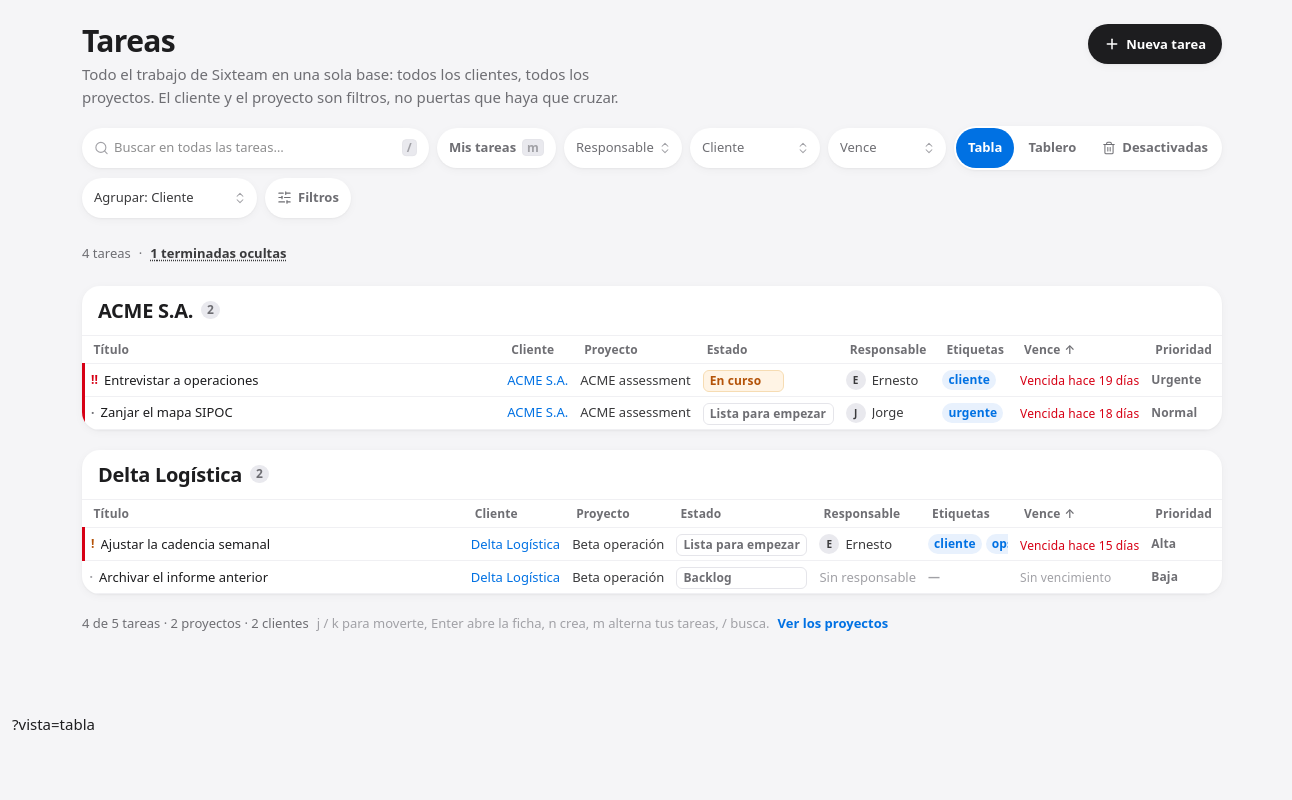
Test: TareasView (render) › «Mis tareas» es un filtro con botón y atajo, no otra pantalla
The width and height of the screenshot is (1292, 800).
Expected: the row with test id "tarea-fila-t-acme-hoy" is shown, [84,396,1222,429]
Click the button with test id "tareas-mias" at (496, 148), box [437,128,556,168]
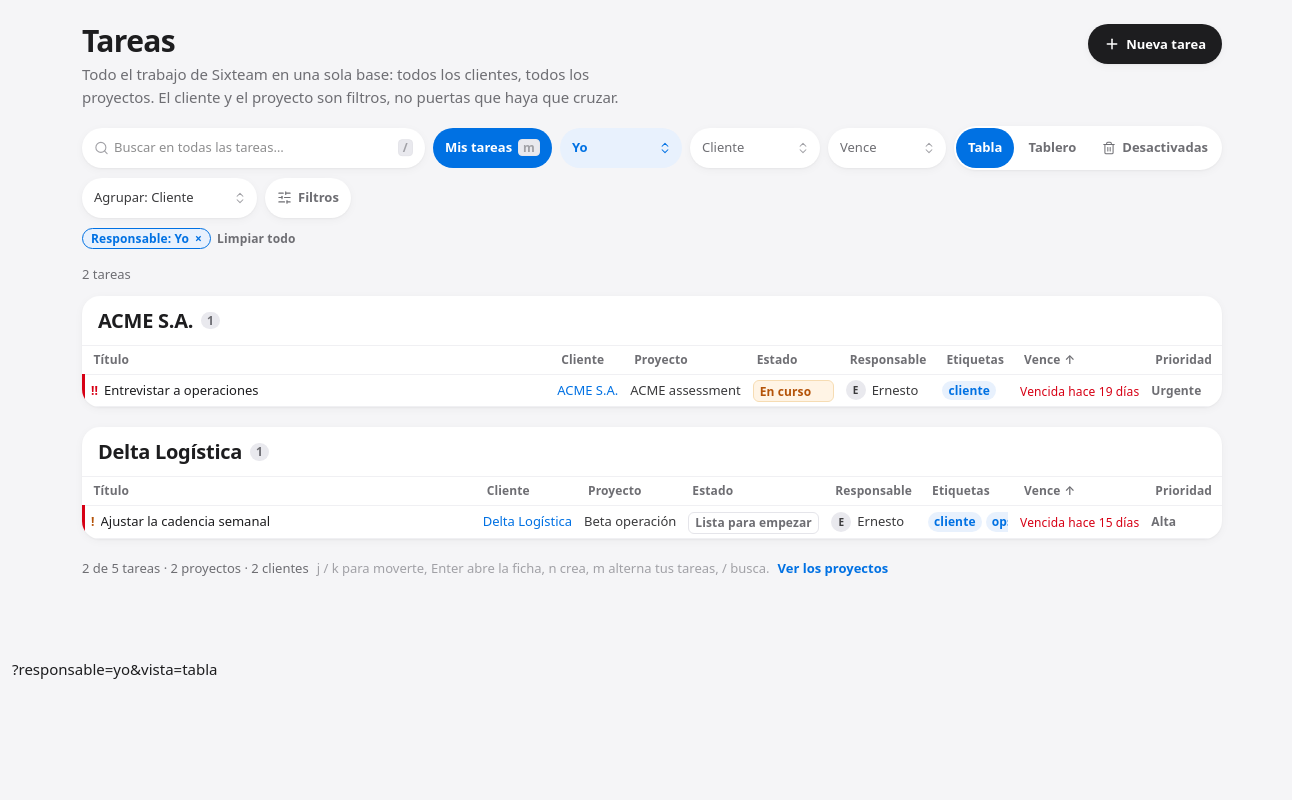
Expected: the row with test id "tarea-fila-t-acme-vencida" is shown, [84,374,1222,407]
Now the row with test id "tarea-fila-t-acme-hoy" is gone
Note: `m` lo quita: el mismo filtro, desde el teclado.
Press m
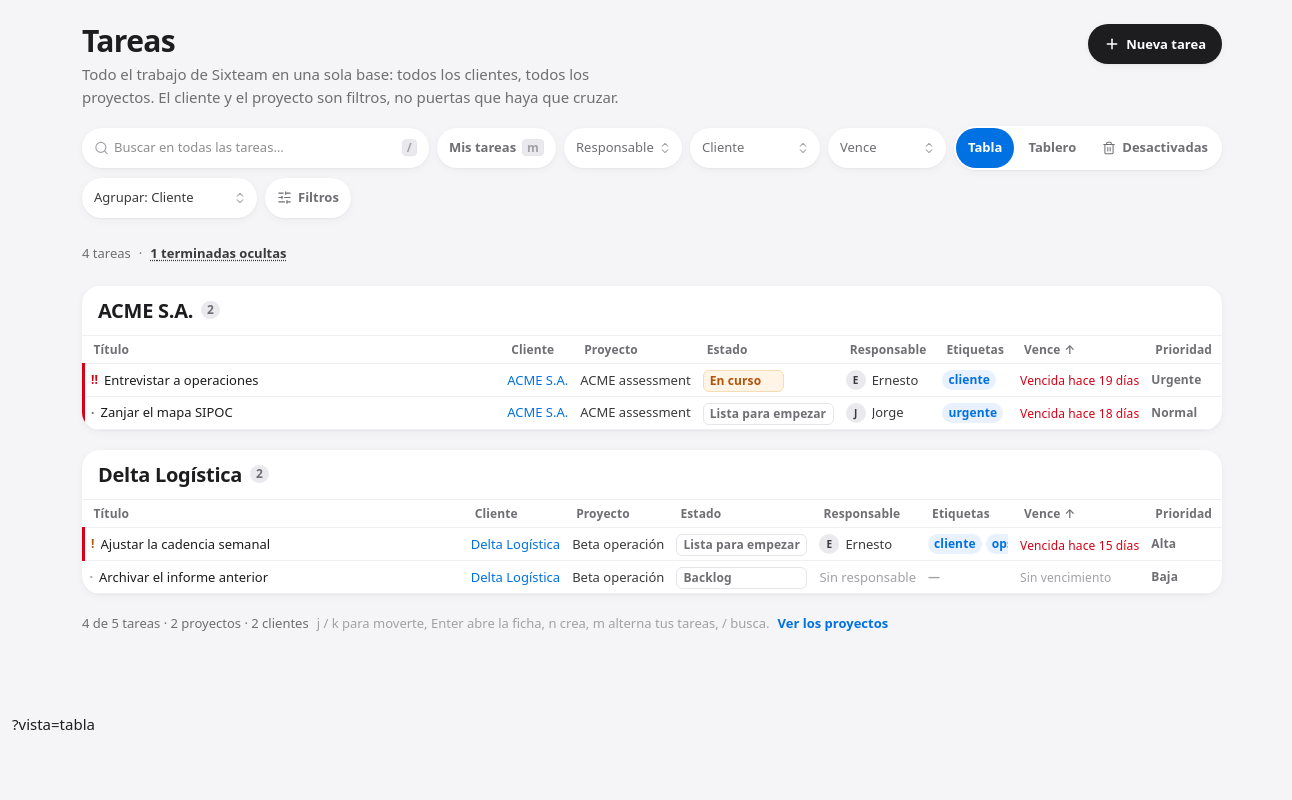
Now the row with test id "tarea-fila-t-acme-hoy" is shown, box [84,396,1222,429]
